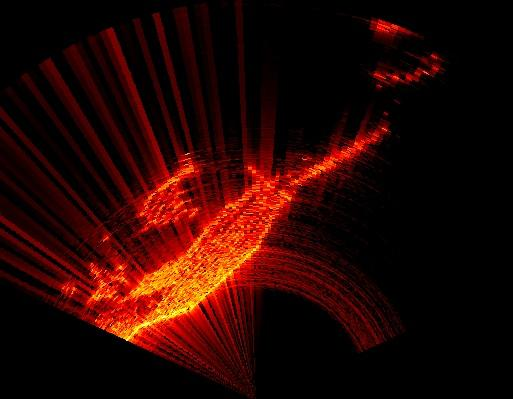shipwreck: (89, 128, 384, 337), (142, 165, 201, 222)
